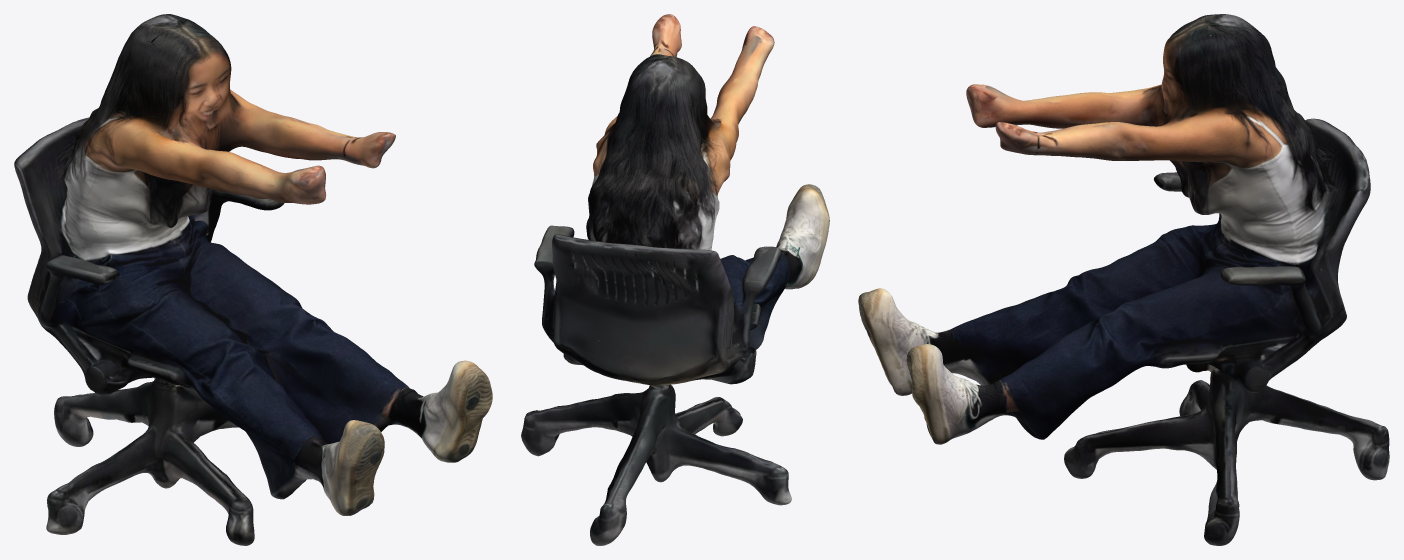
File: Mars.fbx
The picture shows the model from 3 angles, left to right: view 1: azimuth 30°, elevation 25°; view 2: azimuth 150°, elevation 25°; view 3: azimuth 270°, elevation 25°; orthographic projection. The views are drawn at different scales.
Parts seen in each view (by area): view 1: Object; view 2: Object; view 3: Object.
Boxes of the visible parts, left/top/right/bottom form: Object: left=14, top=14, right=492, bottom=545; Object: left=521, top=14, right=829, bottom=545; Object: left=858, top=14, right=1389, bottom=545.
Size of the model in its own units: 47.93 by 73.12 by 75.78.
